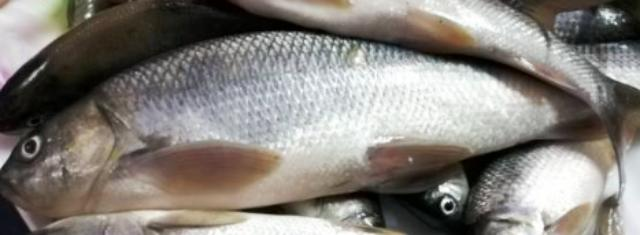Healthy Fish: (0, 32, 595, 219)
